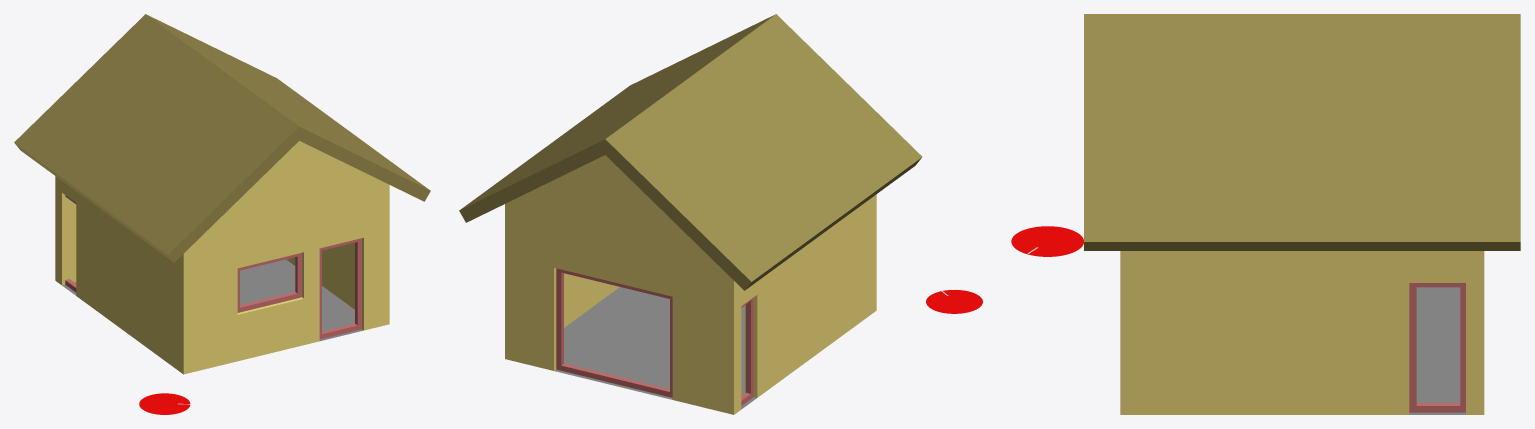
Rendered from result.glb.
3 views of the same model, side by side, from view 1: azimuth 30°, elevation 25°; view 2: azimuth 150°, elevation 25°; view 3: azimuth 270°, elevation 25° (orthographic). The views are drawn at different scales.
Parts seen in each view (by area): view 1: ef802a28-6b67-4751-83ba-9d159d479734__undefined (×2), e37c499e-1c86-4f17-87f5-d378716d548d__undefined, 7fb8b1a4-f5f4-4db2-8cdb-186534f5f9b5__Plane_6, 73259b12-16c7-4bac-a0a2-e4b32df5d1aa__Box, e388d2f4-88a9-4955-b1e8-26af8d206de6__Box_3, 66cf42d1-b05a-4718-b451-109e90456985__Circle; view 2: ef802a28-6b67-4751-83ba-9d159d479734__undefined (×2), e37c499e-1c86-4f17-87f5-d378716d548d__undefined, 7fb8b1a4-f5f4-4db2-8cdb-186534f5f9b5__Plane_6, deb8b733-f099-4b6f-9367-0ebb9b77d682__Box_9, 66cf42d1-b05a-4718-b451-109e90456985__Circle, 9e19fedf-fbac-4695-ba17-82528ca6791e__Box_12; view 3: ef802a28-6b67-4751-83ba-9d159d479734__undefined, e37c499e-1c86-4f17-87f5-d378716d548d__undefined, 7fb8b1a4-f5f4-4db2-8cdb-186534f5f9b5__Plane_6, 6bff4113-4878-4dd5-bcfc-89892e5bc9f1__Box_15, 66cf42d1-b05a-4718-b451-109e90456985__Circle.
Part boxes in pixels (left/top/right/bottom): ef802a28-6b67-4751-83ba-9d159d479734__undefined (×2): left=14, top=14, right=430, bottom=262; e37c499e-1c86-4f17-87f5-d378716d548d__undefined: left=55, top=141, right=389, bottom=374; 7fb8b1a4-f5f4-4db2-8cdb-186534f5f9b5__Plane_6: left=62, top=259, right=363, bottom=341; 73259b12-16c7-4bac-a0a2-e4b32df5d1aa__Box: left=319, top=238, right=361, bottom=339; e388d2f4-88a9-4955-b1e8-26af8d206de6__Box_3: left=237, top=253, right=302, bottom=312; 66cf42d1-b05a-4718-b451-109e90456985__Circle: left=139, top=393, right=190, bottom=414; ef802a28-6b67-4751-83ba-9d159d479734__undefined (×2): left=459, top=14, right=922, bottom=290; e37c499e-1c86-4f17-87f5-d378716d548d__undefined: left=505, top=155, right=876, bottom=414; 7fb8b1a4-f5f4-4db2-8cdb-186534f5f9b5__Plane_6: left=554, top=287, right=756, bottom=409; deb8b733-f099-4b6f-9367-0ebb9b77d682__Box_9: left=556, top=268, right=672, bottom=397; 66cf42d1-b05a-4718-b451-109e90456985__Circle: left=926, top=289, right=982, bottom=313; 9e19fedf-fbac-4695-ba17-82528ca6791e__Box_12: left=741, top=297, right=753, bottom=405; ef802a28-6b67-4751-83ba-9d159d479734__undefined: left=1084, top=14, right=1520, bottom=250; e37c499e-1c86-4f17-87f5-d378716d548d__undefined: left=1120, top=251, right=1484, bottom=414; 7fb8b1a4-f5f4-4db2-8cdb-186534f5f9b5__Plane_6: left=1409, top=287, right=1465, bottom=414; 6bff4113-4878-4dd5-bcfc-89892e5bc9f1__Box_15: left=1409, top=283, right=1465, bottom=412; 66cf42d1-b05a-4718-b451-109e90456985__Circle: left=1011, top=226, right=1083, bottom=256.
Bounding box in the file's own units: 678 × 500 × 700.
